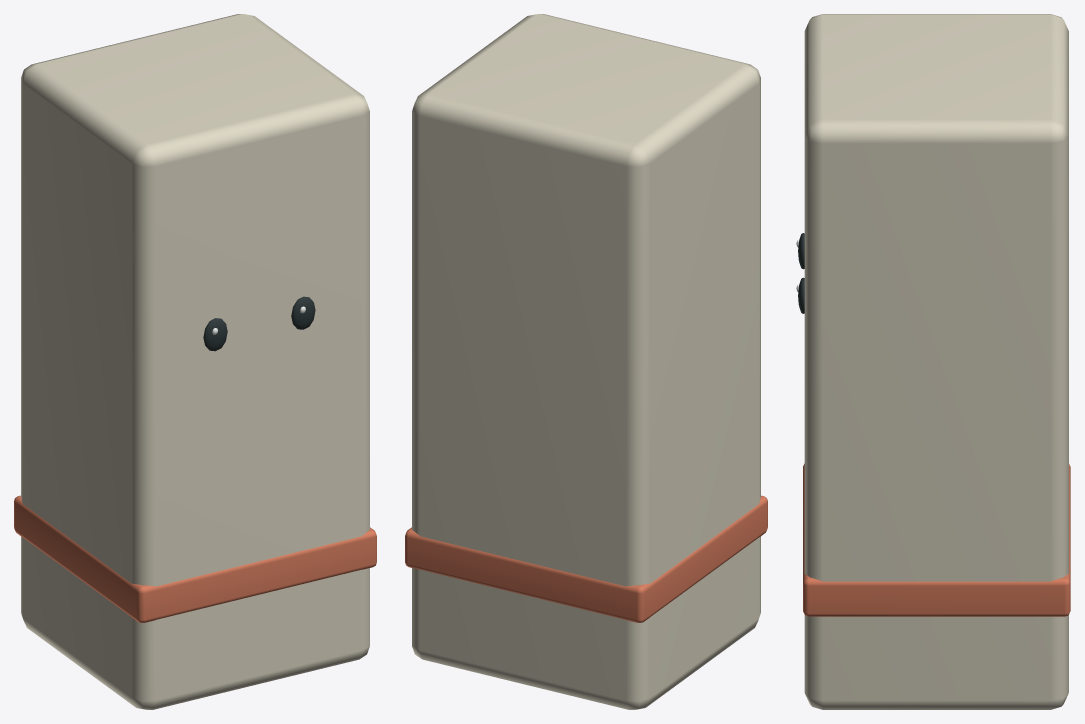
File: player.glb
3 renders of one model, left to right at view 1: azimuth 30°, elevation 25°; view 2: azimuth 150°, elevation 25°; view 3: azimuth 270°, elevation 25°, orthographic. The views are drawn at different scales.
Parts seen in each view (by area): view 1: body, terracotta band, eye_left, eye_right; view 2: body, terracotta band; view 3: body, terracotta band.
Boxes of the visible parts, bbox=[...] form: body: bbox=[21, 14, 369, 709]; terracotta band: bbox=[14, 495, 376, 622]; eye_left: bbox=[203, 318, 227, 351]; eye_right: bbox=[291, 296, 315, 329]; body: bbox=[412, 14, 760, 709]; terracotta band: bbox=[405, 495, 767, 622]; body: bbox=[804, 14, 1068, 709]; terracotta band: bbox=[803, 463, 1070, 616].
Size of the model in its own units: 0.708 by 1.6 by 0.674.
